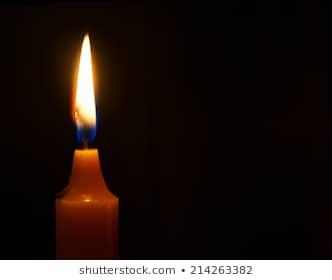fire: (72, 30, 96, 139)
